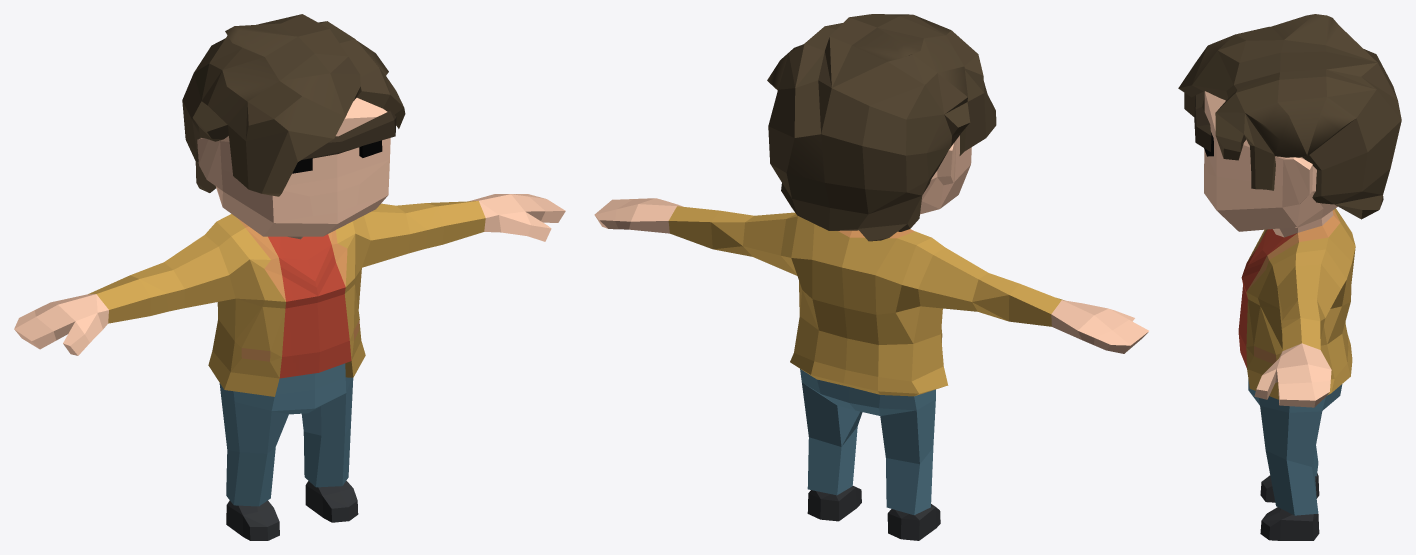
Rendered from MalePlayer.fbx.
3 renders of one model, left to right at view 1: azimuth 30°, elevation 25°; view 2: azimuth 150°, elevation 25°; view 3: azimuth 270°, elevation 25°, orthographic. The views are drawn at different scales.
Parts seen in each view (by area): view 1: MalePlayer; view 2: MalePlayer; view 3: MalePlayer.
Part boxes in pixels (x1,y1,x2,y2): MalePlayer: [14, 14, 565, 540]; MalePlayer: [594, 14, 1148, 540]; MalePlayer: [1178, 14, 1401, 540].
Bounding box in the file's own units: 2.13 × 1.87 × 0.7894.
